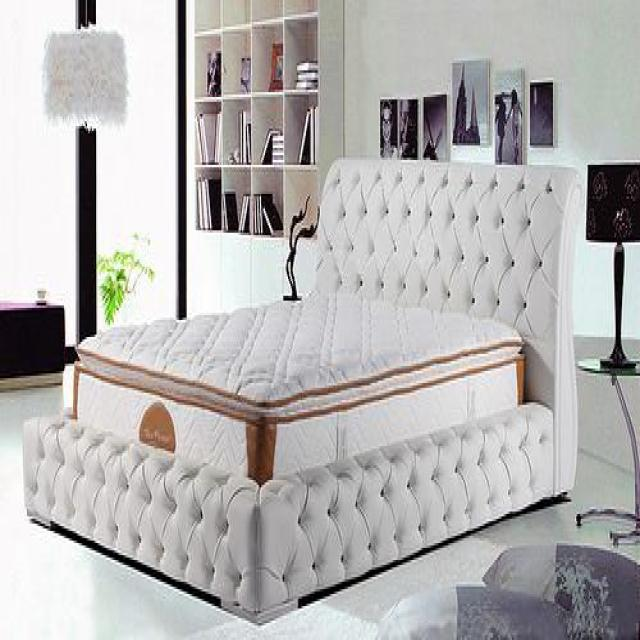bed: (22, 153, 581, 623)
table: (573, 349, 639, 546)
